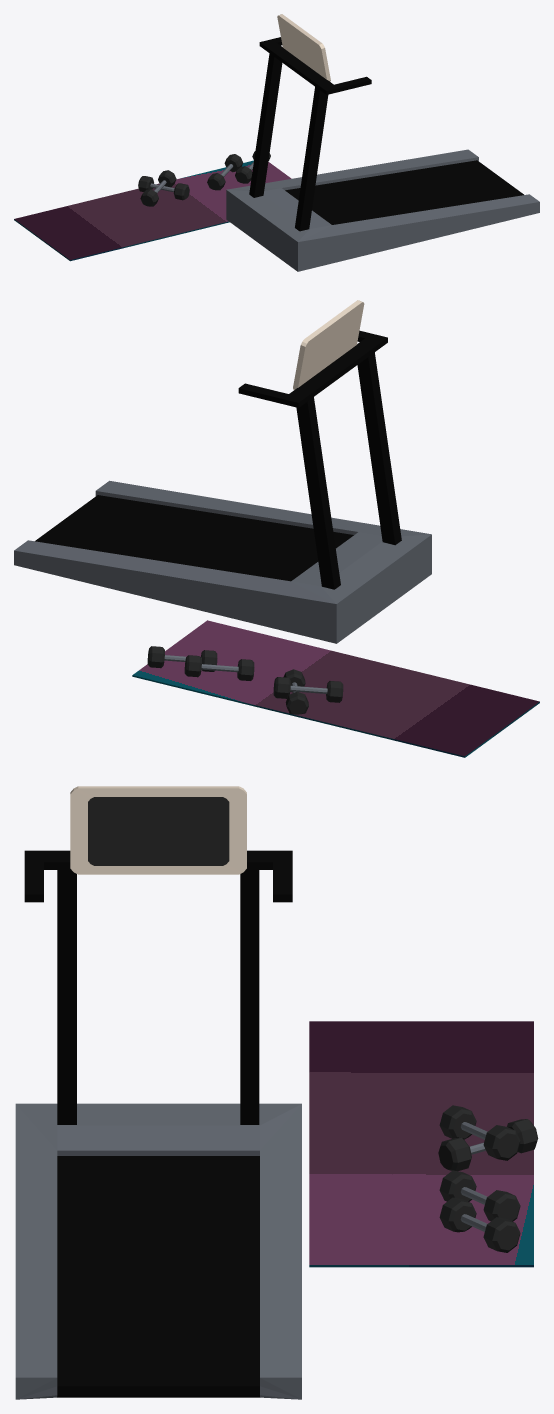
File: Accesories_Exercise_area.glb
3 views of the same model, one above another, from view 1: azimuth 30°, elevation 25°; view 2: azimuth 150°, elevation 25°; view 3: azimuth 270°, elevation 25° (orthographic). The views are drawn at different scales.
Parts seen in each view (by area): view 1: Accesories_Exercise_area; view 2: Accesories_Exercise_area; view 3: Accesories_Exercise_area.
Boxes of the visible parts, <box> form: Accesories_Exercise_area: <box>14,14,539,271</box>; Accesories_Exercise_area: <box>14,300,539,757</box>; Accesories_Exercise_area: <box>15,786,538,1399</box>.
Bounding box in the file's own units: 2.62 × 1.35 × 1.5.
1 material, 1 textured.
